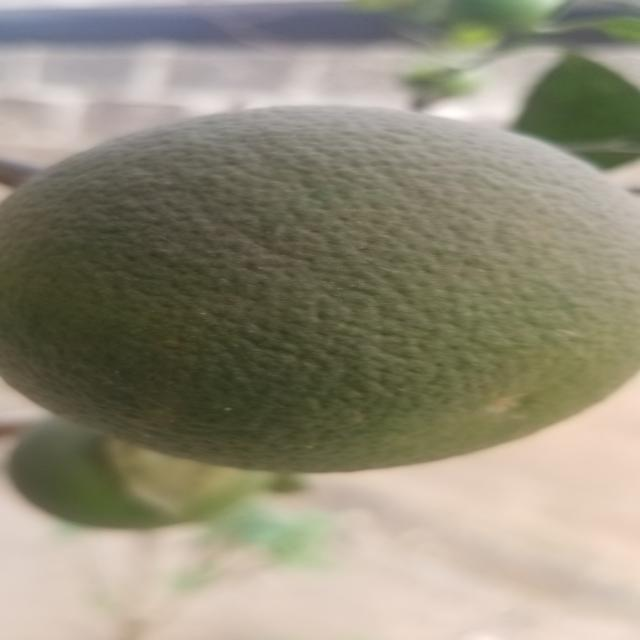Unripe: (10, 121, 640, 473)
